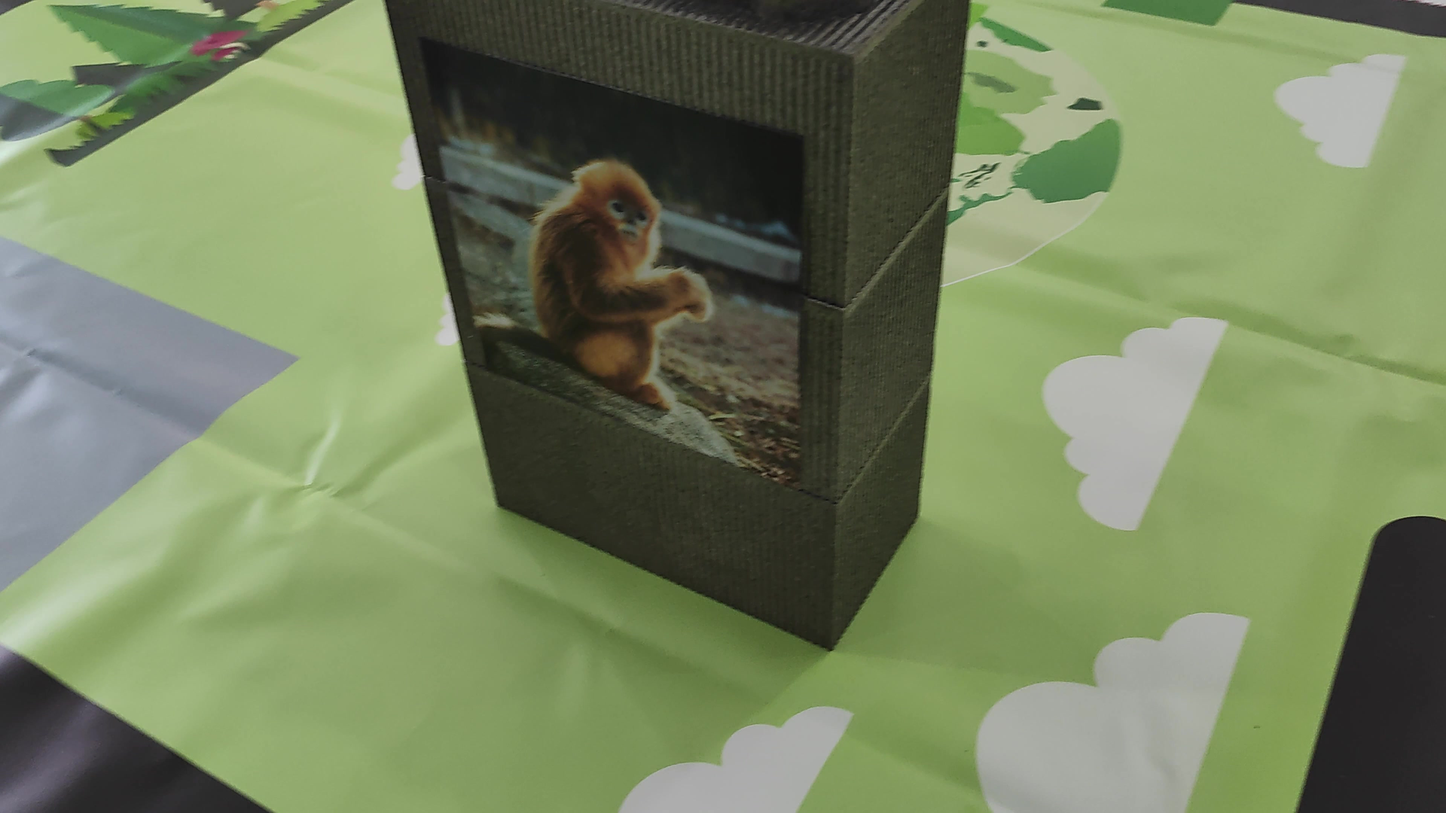monkey: (497, 119, 763, 404)
